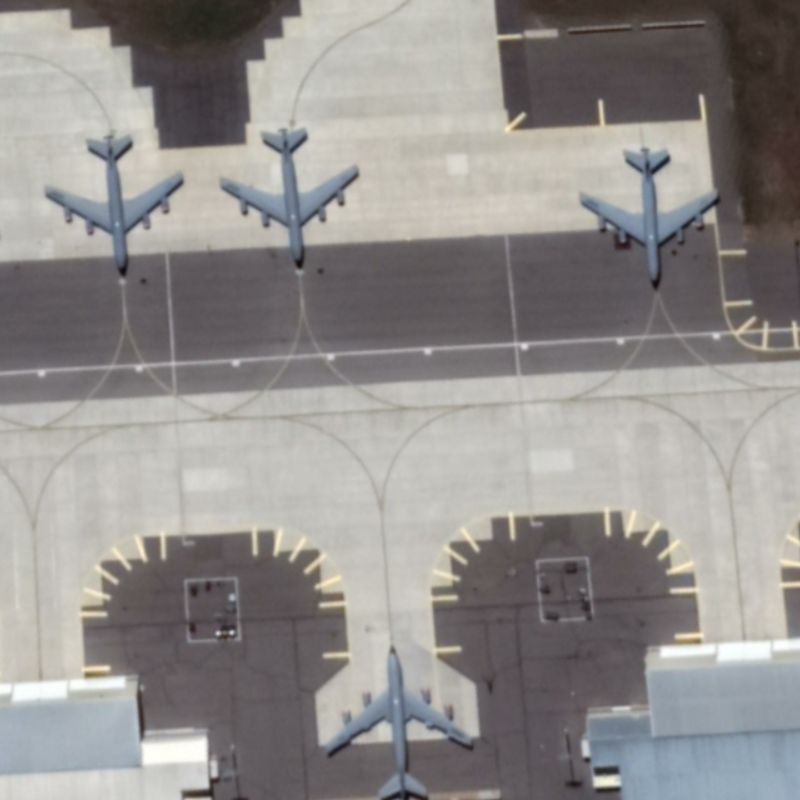A14: (315, 633, 493, 800), (39, 124, 205, 285), (575, 132, 732, 300), (215, 118, 369, 278)
